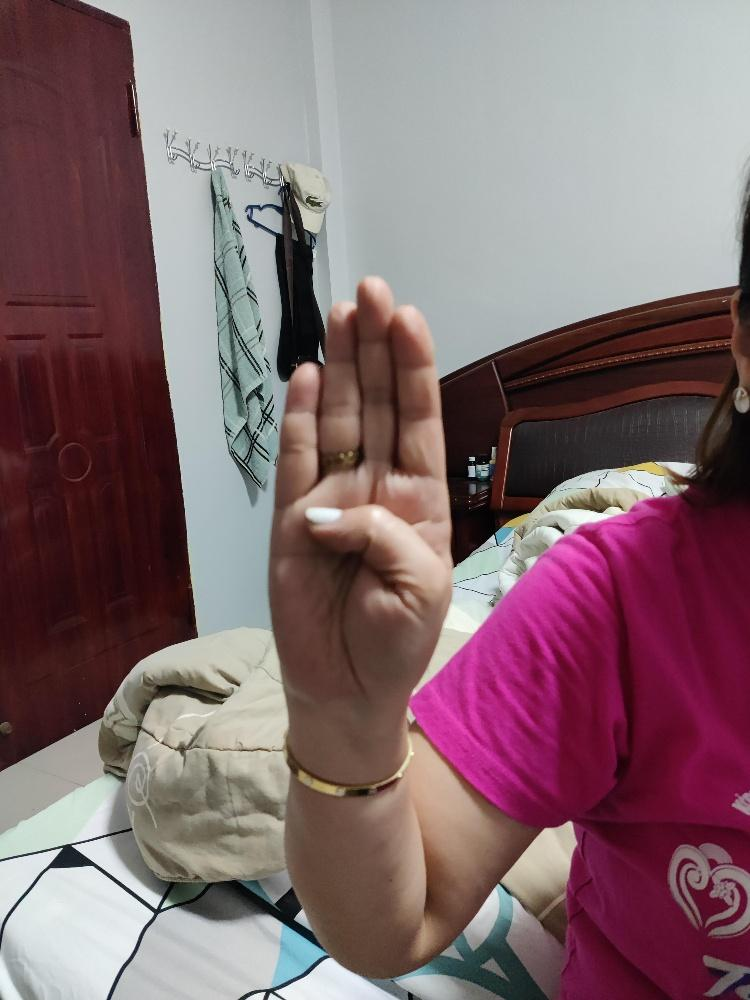b: (264, 271, 454, 703)
